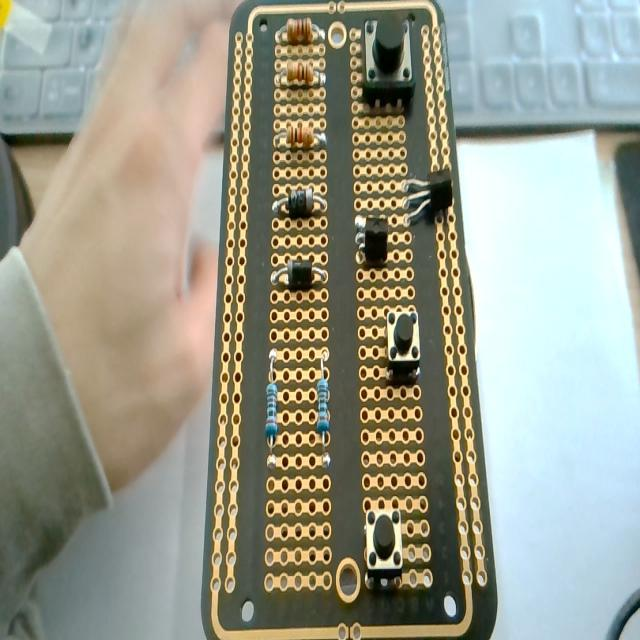diode: (271, 235, 327, 276), (272, 258, 328, 290), (273, 186, 326, 218)
resistor: (316, 349, 330, 464), (264, 349, 278, 458), (277, 123, 324, 151), (276, 18, 325, 41), (275, 63, 326, 85)
switch: (361, 13, 416, 109), (364, 503, 404, 588), (386, 308, 420, 378)
transistor: (403, 171, 452, 224), (353, 214, 388, 263)
